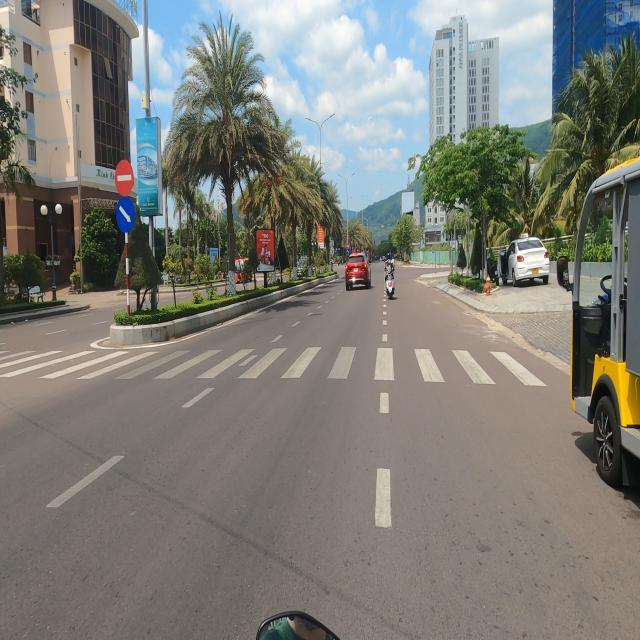walk-crossing: (6, 342, 548, 393)
